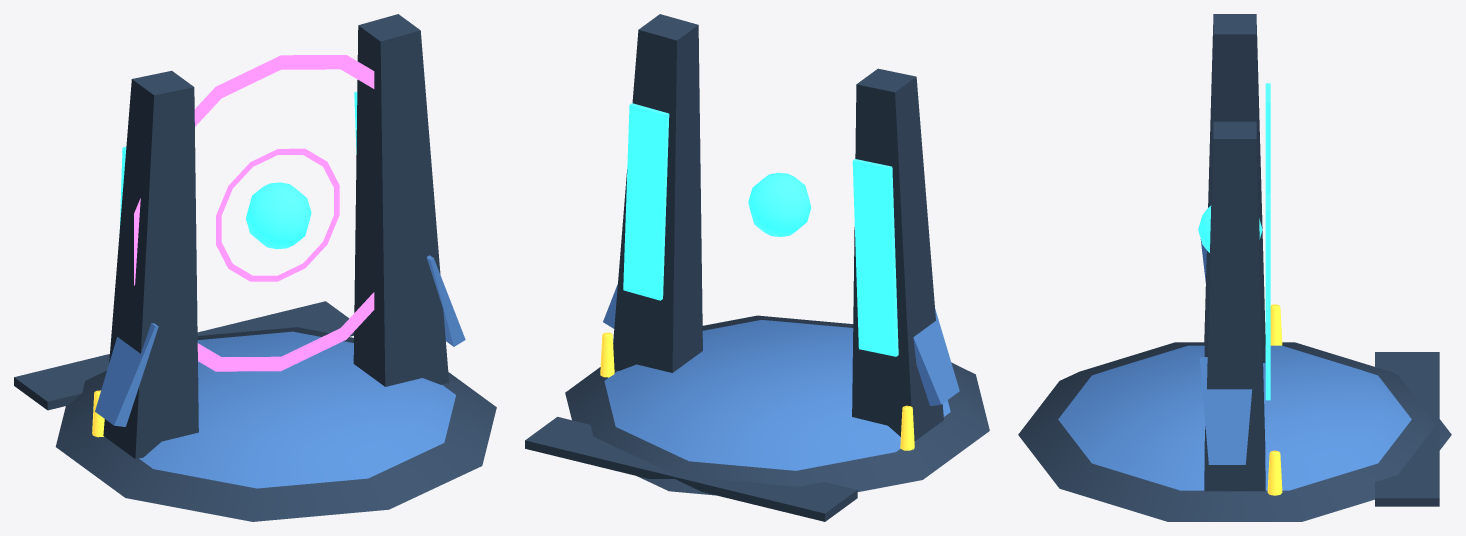
The model's file is command-horizon-arrival-gate-lod2.glb.
3 renders of one model, left to right at view 1: azimuth 30°, elevation 25°; view 2: azimuth 150°, elevation 25°; view 3: azimuth 270°, elevation 25°, orthographic. The views are drawn at different scales.
Visible parts, largest first — view 1: arrival-tier, arrival-pylon-1, arrival-pylon--1, arrival-plinth, arrival-arch, arrival-front-step, arrival-core, arrival-fin--1, arrival-orbit-0, arrival-fin-1; view 2: arrival-tier, arrival-pylon-1, arrival-pylon--1, arrival-plinth, arrival-front-step, arrival-panel--1, arrival-panel-1, arrival-core, arrival-fin--1, arrival-beacon--1, arrival-beacon-1; view 3: arrival-tier, arrival-plinth, arrival-pylon-1, arrival-pylon--1, arrival-front-step, arrival-fin-1, arrival-panel-1, arrival-panel--1, arrival-beacon-1.
Part boxes in pixels (box(x1,y1,x2,y2)): arrival-tier: box(139, 331, 455, 488); arrival-pylon-1: box(353, 14, 449, 386); arrival-pylon--1: box(103, 70, 198, 458); arrival-plinth: box(55, 327, 496, 521); arrival-arch: box(134, 55, 374, 371); arrival-front-step: box(14, 301, 353, 410); arrival-core: box(246, 182, 311, 249); arrival-fin--1: box(95, 323, 158, 426); arrival-orbit-0: box(216, 148, 339, 281); arrival-fin-1: box(426, 255, 465, 346); arrival-tier: box(604, 320, 950, 470); arrival-pylon-1: box(613, 14, 702, 372); arrival-pylon--1: box(852, 68, 943, 440); arrival-plinth: box(565, 315, 989, 495); arrival-front-step: box(525, 416, 857, 521); arrival-panel--1: box(852, 159, 898, 356); arrival-panel-1: box(623, 103, 669, 300); arrival-core: box(748, 172, 811, 236); arrival-fin--1: box(913, 308, 959, 405); arrival-beacon--1: box(900, 405, 914, 450); arrival-beacon-1: box(600, 332, 614, 377); arrival-tier: box(1058, 345, 1411, 490); arrival-plinth: box(1018, 342, 1451, 521); arrival-pylon-1: box(1204, 121, 1265, 491); arrival-pylon--1: box(1204, 14, 1265, 362); arrival-front-step: box(1375, 352, 1439, 506); arrival-fin-1: box(1199, 357, 1252, 464); arrival-panel-1: box(1265, 193, 1270, 400); arrival-panel--1: box(1265, 83, 1270, 193); arrival-beacon-1: box(1267, 450, 1282, 495).
Size of the model in its own units: 5.36 by 5.18 by 5.64.
